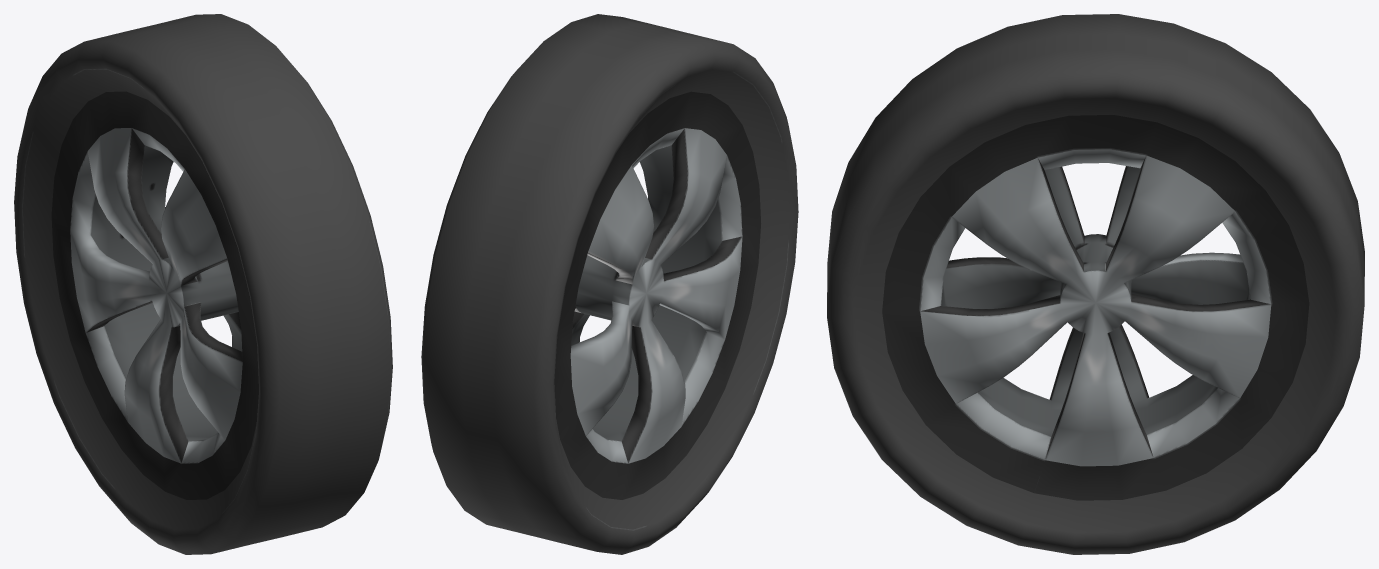
File: MariaAntoniaCarWheelV2.fbx
The picture shows the model from 3 angles, left to right: view 1: azimuth 30°, elevation 25°; view 2: azimuth 150°, elevation 25°; view 3: azimuth 270°, elevation 25°; orthographic projection. The views are drawn at different scales.
Parts seen in each view (by area): view 1: RuedaDelantera1; view 2: RuedaDelantera1; view 3: RuedaDelantera1.
Part boxes in pixels (bbox=[...]): RuedaDelantera1: bbox=[14, 14, 392, 554]; RuedaDelantera1: bbox=[421, 14, 798, 554]; RuedaDelantera1: bbox=[827, 14, 1364, 554].
Size of the model in its own units: 0.3413 by 1.18 by 1.19.
